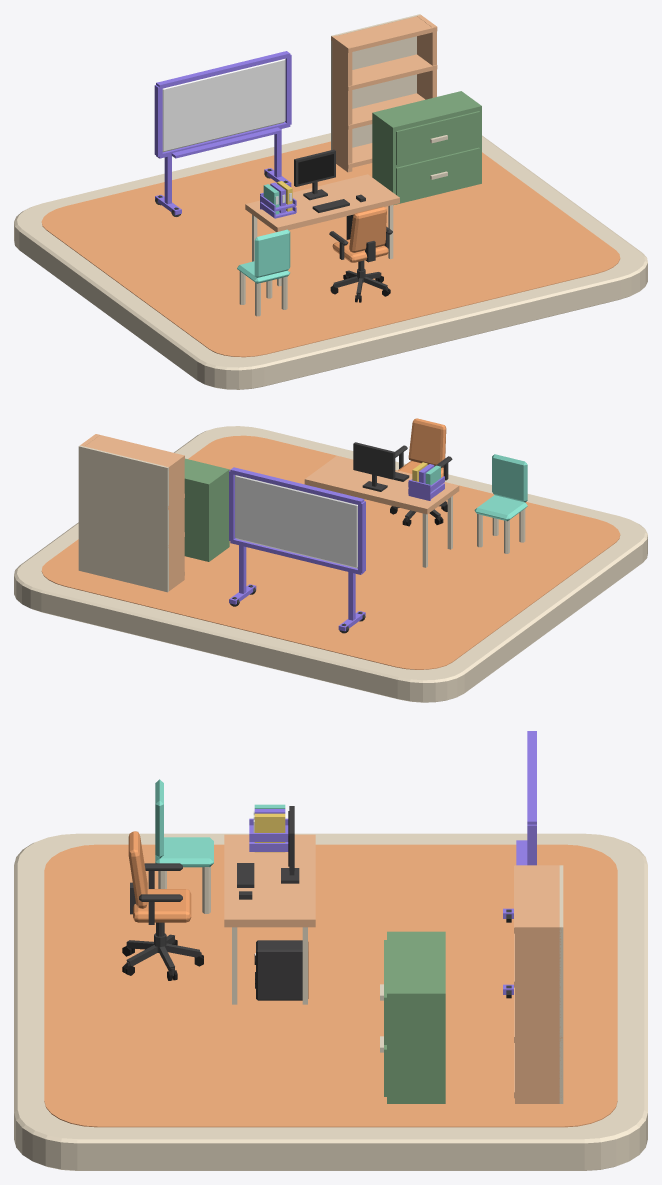
Rendered from room.fbx.
3 views of the same model, one above another, from view 1: azimuth 30°, elevation 25°; view 2: azimuth 150°, elevation 25°; view 3: azimuth 270°, elevation 25° (orthographic). The views are drawn at different scales.
Visible parts, largest first — view 1: COM-02 Floor Surface, COM-01 Rounded Base Direct, Cabinet, Writing surface, Top, Back, COM-04_Chair_blender_direct, Side, Shelf.003, Shelf.002, Backrest, Frame (+5 smaller); view 2: COM-02 Floor Surface, COM-01 Rounded Base Direct, Back, Writing surface, Cabinet, Top, COM-04_Chair_blender_direct, Side, Backrest, Frame, Shelf.003, Frame rail.001 (+3 smaller); view 3: COM-02 Floor Surface, COM-01 Rounded Base Direct, Cabinet, Top, Side.001, COM-04_Chair_blender_direct, Shelf.003, Tower, Seat, Back, Frame rail.001, Frame (+2 smaller).
Boxes of the visible parts, x1=… form: COM-02 Floor Surface: x1=41, y1=141, x2=620, y2=357; COM-01 Rounded Base Direct: x1=14, y1=133, x2=647, y2=389; Cabinet: x1=372, y1=91, x2=481, y2=205; Writing surface: x1=162, y1=58, x2=285, y2=152; Top: x1=245, y1=174, x2=399, y2=286; Back: x1=331, y1=14, x2=420, y2=150; COM-04_Chair_blender_direct: x1=329, y1=206, x2=392, y2=302; Side: x1=332, y1=35, x2=352, y2=172; Shelf.003: x1=331, y1=16, x2=437, y2=52; Shelf.002: x1=332, y1=54, x2=437, y2=90; Backrest: x1=254, y1=229, x2=290, y2=277; Frame: x1=294, y1=149, x2=335, y2=200; COM-02 Floor Surface: x1=41, y1=435, x2=620, y2=669; COM-01 Rounded Base Direct: x1=14, y1=426, x2=647, y2=702; Back: x1=78, y1=445, x2=168, y2=592; Writing surface: x1=235, y1=475, x2=357, y2=568; Cabinet: x1=184, y1=458, x2=229, y2=561; Top: x1=304, y1=455, x2=459, y2=567; COM-04_Chair_blender_direct: x1=390, y1=418, x2=452, y2=526; Side: x1=164, y1=454, x2=184, y2=590; Backrest: x1=492, y1=454, x2=527, y2=502; Frame: x1=353, y1=442, x2=395, y2=491; Shelf.003: x1=85, y1=434, x2=184, y2=471; Frame rail.001: x1=230, y1=467, x2=364, y2=505; COM-02 Floor Surface: x1=44, y1=844, x2=617, y2=1127; COM-01 Rounded Base Direct: x1=14, y1=833, x2=647, y2=1170; Cabinet: x1=380, y1=931, x2=445, y2=1103; Top: x1=224, y1=834, x2=315, y2=1004; Side.001: x1=515, y1=924, x2=560, y2=1103; COM-04_Chair_blender_direct: x1=122, y1=831, x2=203, y2=980; Shelf.003: x1=514, y1=865, x2=561, y2=933; Tower: x1=256, y1=940, x2=308, y2=1000; Seat: x1=155, y1=837, x2=213, y2=867; Back: x1=559, y1=865, x2=563, y2=1103; Frame rail.001: x1=527, y1=731, x2=536, y2=824; Frame: x1=281, y1=806, x2=299, y2=883.
Size of the model in its own units: 600 by 196 by 520.
